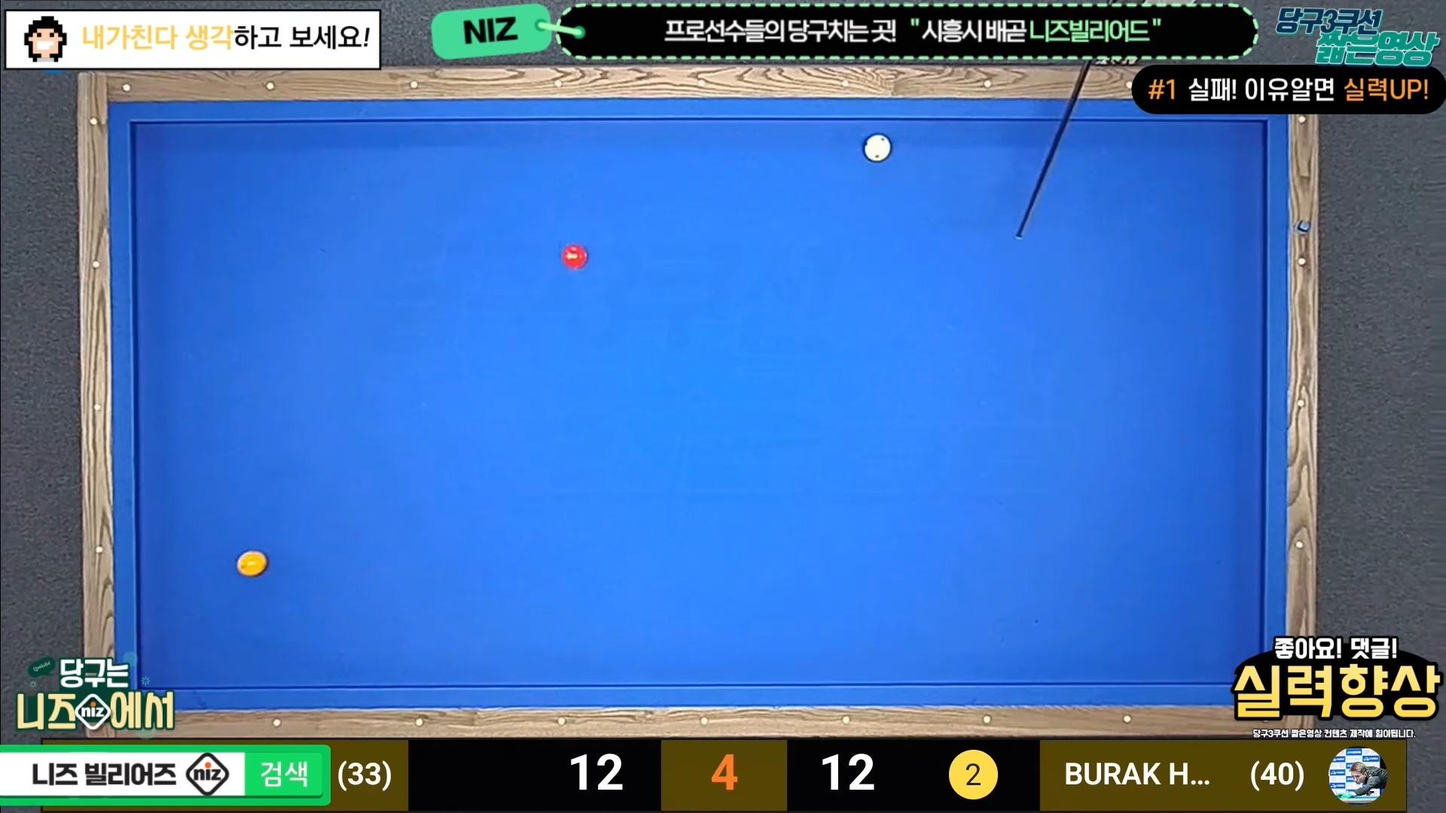Red: (559, 245, 591, 272)
White: (863, 134, 895, 163)
Yellow: (236, 552, 271, 580)
